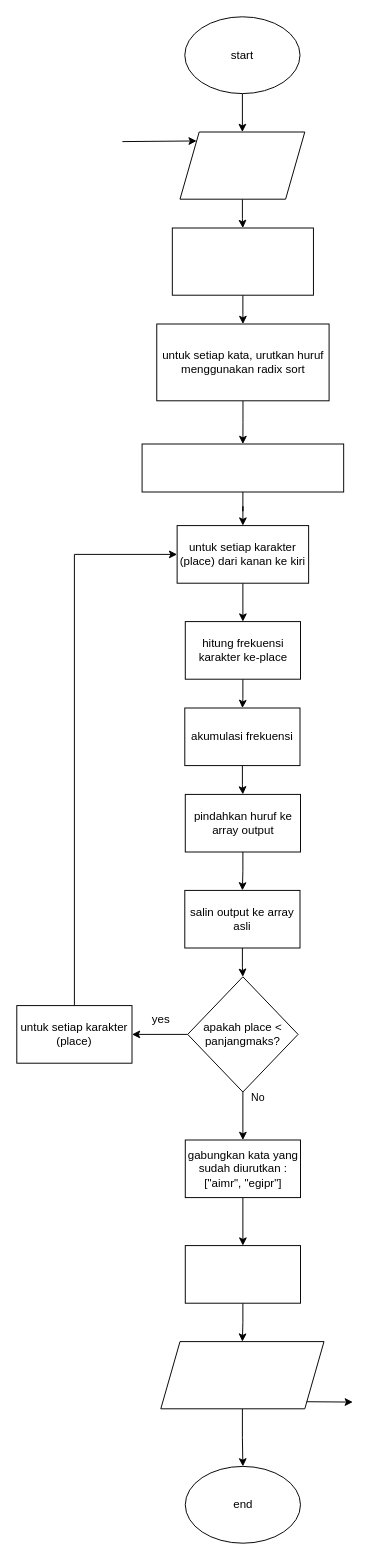
Image size: 377x1560. Some labels were removed from this diagram. Each missing label, with the centre of its shape:
gabung kata menjadi kalimat "aimr egipr": point (242, 1274)
input kalimat "mari pergi": point (242, 165)
output kalimat "aimr egipr": point (242, 1375)
pisahkan kalimat menjadi kata : ["mari", "pergi"]: point (242, 261)
tentukan panjang kata terpanjang: point (242, 467)
